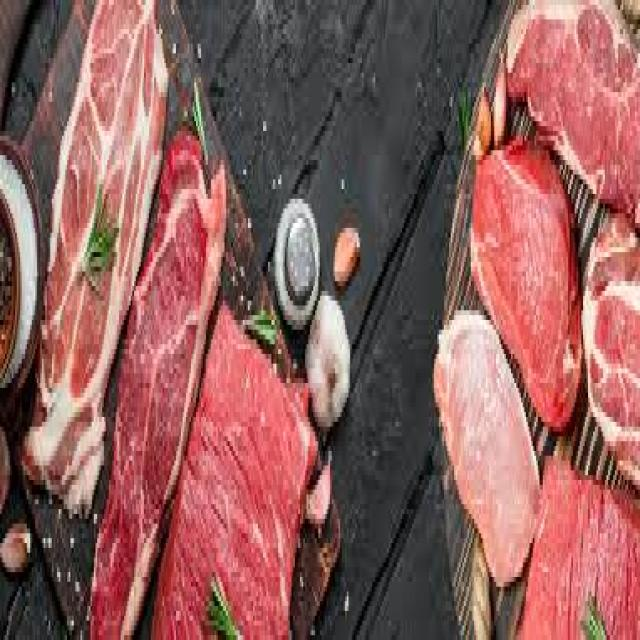Organik: (27, 0, 356, 640), (432, 5, 640, 640), (309, 290, 359, 474)
